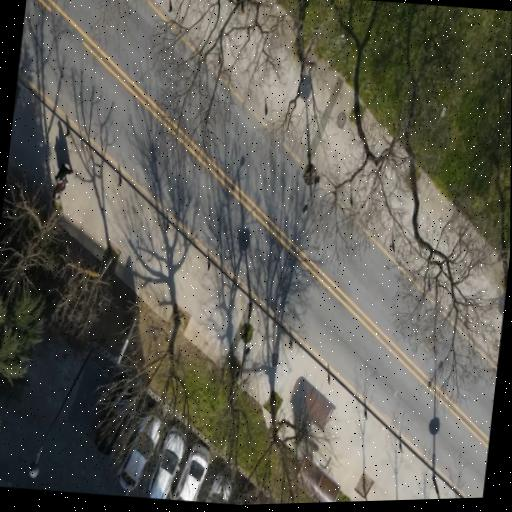car: (120, 414, 161, 490), (149, 426, 185, 498), (94, 382, 129, 455), (172, 442, 210, 500), (205, 475, 231, 503)
person: (53, 179, 69, 199), (56, 164, 73, 182)
